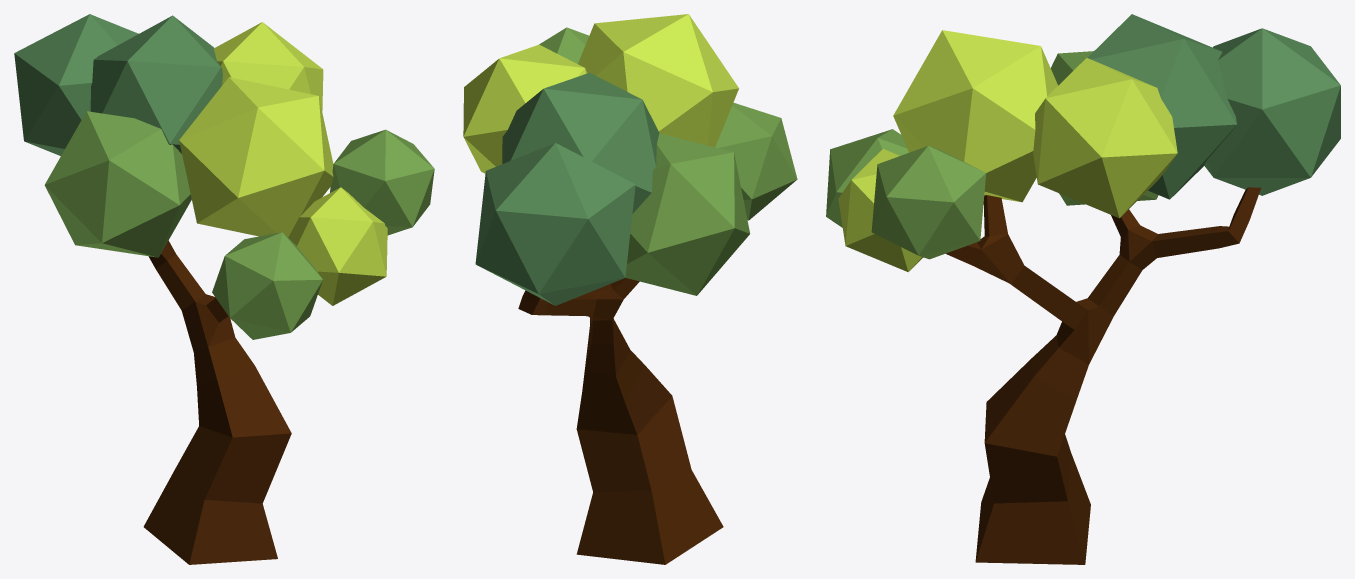
File: tree.fbx
3 renders of one model, left to right at view 1: azimuth 30°, elevation 25°; view 2: azimuth 150°, elevation 25°; view 3: azimuth 270°, elevation 25°, orthographic. The views are drawn at different scales.
Parts seen in each view (by area): view 1: Trunk, Icosphere.002, Icosphere, Icosphere.006, Icosphere.001, Icosphere.007, Icosphere.003, Icosphere.005, Icosphere.004; view 2: Trunk, Icosphere.001, Icosphere, Icosphere.002, Icosphere.006, Icosphere.004, Icosphere.007, Icosphere.005; view 3: Trunk, Icosphere.002, Icosphere.004, Icosphere.001, Icosphere.006, Icosphere.005, Icosphere.003, Icosphere.007, Icosphere.
Boxes of the visible parts, <box> form: Trunk: <box>143,240,291,564</box>; Icosphere.002: <box>179,77,333,237</box>; Icosphere: <box>44,111,191,257</box>; Icosphere.006: <box>90,15,222,153</box>; Icosphere.001: <box>14,14,138,155</box>; Icosphere.007: <box>212,232,322,339</box>; Icosphere.003: <box>288,187,387,305</box>; Icosphere.005: <box>330,129,434,235</box>; Icosphere.004: <box>213,22,323,111</box>; Trunk: <box>518,278,723,564</box>; Icosphere.001: <box>475,143,635,305</box>; Icosphere: <box>625,133,750,295</box>; Icosphere.002: <box>578,14,738,147</box>; Icosphere.006: <box>502,72,659,213</box>; Icosphere.004: <box>463,44,587,173</box>; Icosphere.007: <box>715,102,797,220</box>; Icosphere.005: <box>539,27,588,63</box>; Trunk: <box>946,187,1260,564</box>; Icosphere.002: <box>893,30,1058,202</box>; Icosphere.004: <box>1033,58,1177,218</box>; Icosphere.001: <box>1204,28,1340,195</box>; Icosphere.006: <box>1087,14,1236,199</box>; Icosphere.005: <box>871,146,986,259</box>; Icosphere.003: <box>838,149,923,272</box>; Icosphere.007: <box>826,129,908,227</box>; Icosphere: <box>1050,51,1158,205</box>.
Size of the model in its own units: 535 by 839 by 755.
